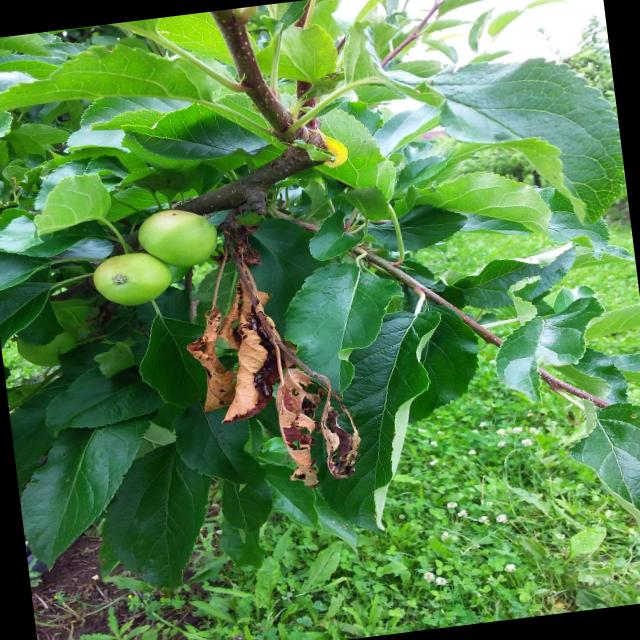-FireBlight-: (182, 227, 372, 502)
